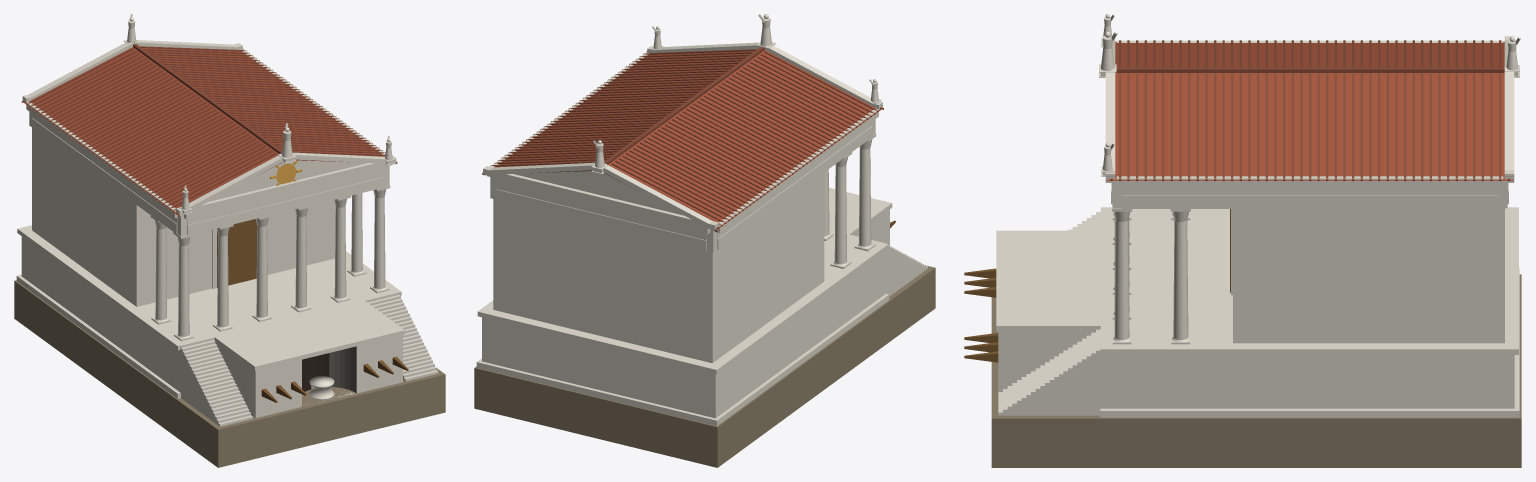
Rendered from rome_divus_julius.glb.
3 views of the same model, side by side, from view 1: azimuth 30°, elevation 25°; view 2: azimuth 150°, elevation 25°; view 3: azimuth 270°, elevation 25° (orthographic). The views are drawn at different scales.
Parts seen in each view (by area): view 1: rome_divus_julius; view 2: rome_divus_julius; view 3: rome_divus_julius.
Part boxes in pixels (left/top/right/bottom): rome_divus_julius: left=14, top=14, right=445, bottom=467; rome_divus_julius: left=474, top=14, right=935, bottom=467; rome_divus_julius: left=964, top=14, right=1521, bottom=467.
Size of the model in its own units: 25 by 29.56 by 40.82.
